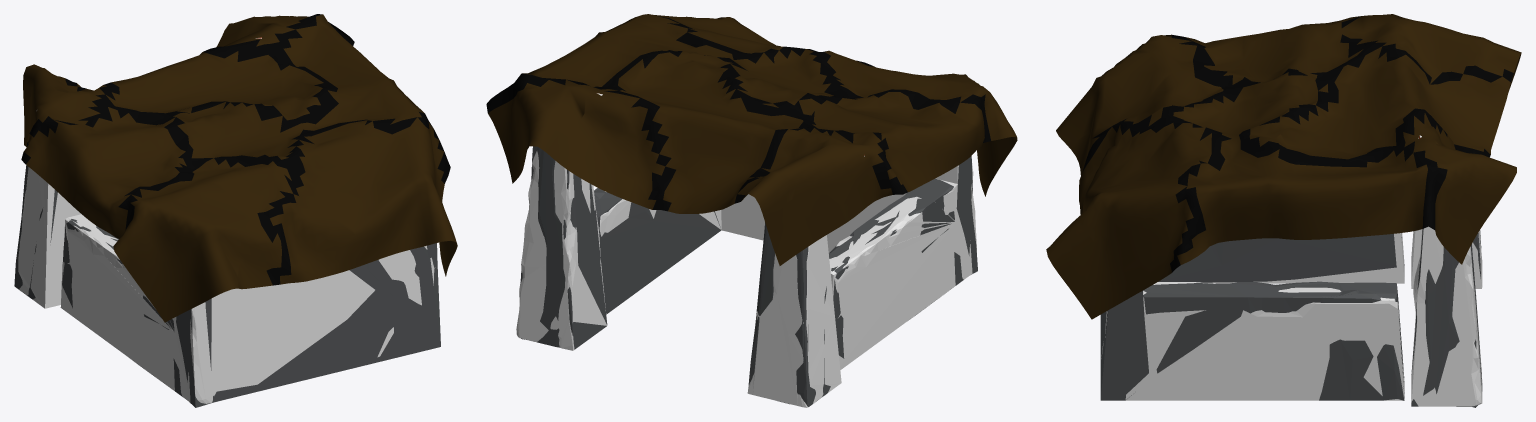
Rendered from Town hall.fbx.
The picture shows the model from 3 angles, left to right: view 1: azimuth 30°, elevation 25°; view 2: azimuth 150°, elevation 25°; view 3: azimuth 270°, elevation 25°; orthographic projection. The views are drawn at different scales.
Parts seen in each view (by area): view 1: Cube.004, Cylinder.004; view 2: Cube.004, Cylinder.004; view 3: Cube.004, Cylinder.004.
Part boxes in pixels (x1,y1,x2,y2): Cube.004: (14,14,457,407); Cylinder.004: (14,38,435,403); Cube.004: (486,14,1017,406); Cylinder.004: (516,93,976,407); Cube.004: (1046,14,1521,407); Cylinder.004: (1101,135,1482,406).
Size of the model in its own units: 2370 by 1389 by 2389.
